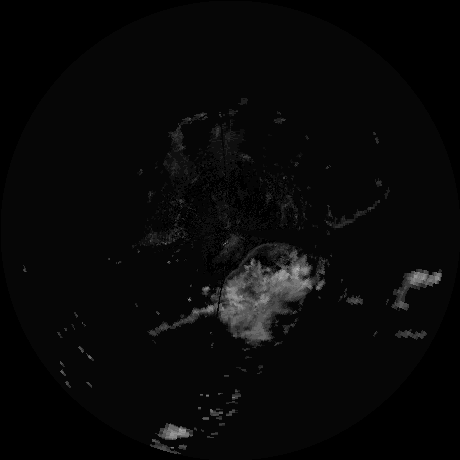frontgust: (227, 242, 289, 278)
